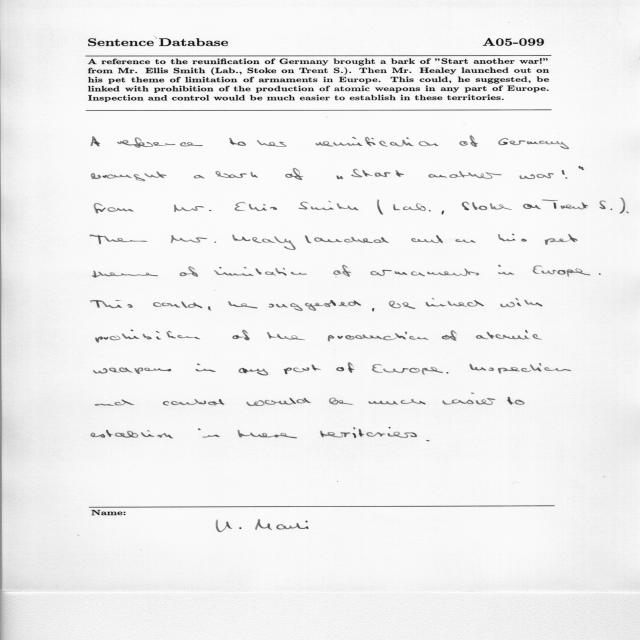word: (96, 330, 200, 343), (316, 137, 439, 147), (320, 427, 417, 438), (469, 363, 571, 373), (269, 300, 361, 311), (328, 332, 428, 342), (232, 235, 296, 250), (117, 137, 203, 148), (370, 269, 479, 277), (214, 267, 307, 276), (498, 138, 569, 149), (372, 364, 443, 375), (91, 172, 167, 182), (305, 236, 389, 244), (91, 430, 173, 438), (443, 393, 496, 405), (533, 266, 590, 277), (476, 330, 542, 339), (428, 171, 502, 179), (90, 235, 148, 245), (299, 201, 359, 210), (94, 367, 171, 374), (426, 298, 484, 307), (247, 398, 312, 406), (237, 430, 297, 438), (351, 169, 404, 178), (92, 271, 158, 278), (542, 200, 588, 210), (163, 399, 224, 406), (94, 203, 134, 213), (462, 202, 512, 210), (234, 202, 277, 211), (501, 299, 543, 308), (284, 365, 321, 375), (545, 234, 578, 245), (171, 235, 216, 243), (153, 301, 202, 308), (393, 203, 431, 212), (369, 399, 426, 405), (91, 300, 133, 308), (174, 204, 212, 212), (267, 332, 305, 340), (216, 171, 258, 178), (96, 399, 135, 406), (411, 235, 443, 243), (498, 234, 527, 242), (459, 135, 478, 147), (285, 168, 303, 180), (333, 265, 351, 277), (519, 173, 554, 179), (336, 362, 355, 373), (389, 301, 415, 309), (257, 140, 286, 147), (228, 302, 257, 309), (239, 368, 268, 375), (180, 266, 198, 277), (198, 429, 220, 438), (195, 363, 216, 372), (233, 330, 251, 340), (329, 398, 353, 405), (498, 265, 514, 275), (442, 330, 456, 341), (229, 138, 246, 146), (507, 397, 524, 405), (600, 201, 613, 210), (91, 137, 100, 147), (377, 200, 383, 215), (523, 204, 541, 209), (620, 198, 625, 214), (456, 239, 476, 243), (562, 170, 567, 179), (194, 175, 205, 178), (337, 176, 344, 180), (579, 166, 584, 170), (208, 306, 211, 311), (442, 211, 444, 215), (626, 212, 629, 214), (372, 308, 374, 311), (599, 273, 601, 275), (447, 372, 449, 374), (389, 427, 391, 429)
